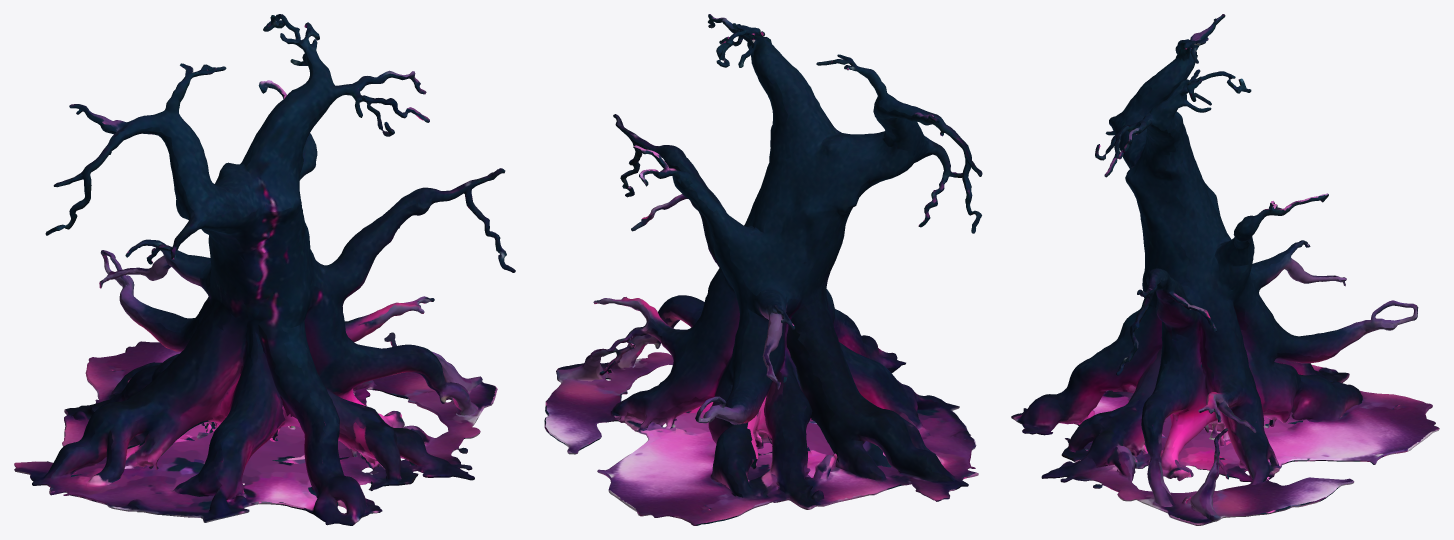
File: sea-root-se-generated-2026-05-17T19-46-57-788Z.high.glb
3 renders of one model, left to right at view 1: azimuth 30°, elevation 25°; view 2: azimuth 150°, elevation 25°; view 3: azimuth 270°, elevation 25°, orthographic. The views are drawn at different scales.
Visible parts, largest first — view 1: temp_mesh.ply; view 2: temp_mesh.ply; view 3: temp_mesh.ply.
Part boxes in pixels (<box>): temp_mesh.ply: <box>14,14,515,525</box>; temp_mesh.ply: <box>544,14,982,525</box>; temp_mesh.ply: <box>1011,14,1439,525</box>.
Bounding box in the file's own units: 1.97 × 1.75 × 1.83.
Materials: 1 (1 with a texture image).
